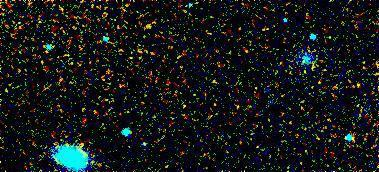star: (134, 12, 164, 42)
